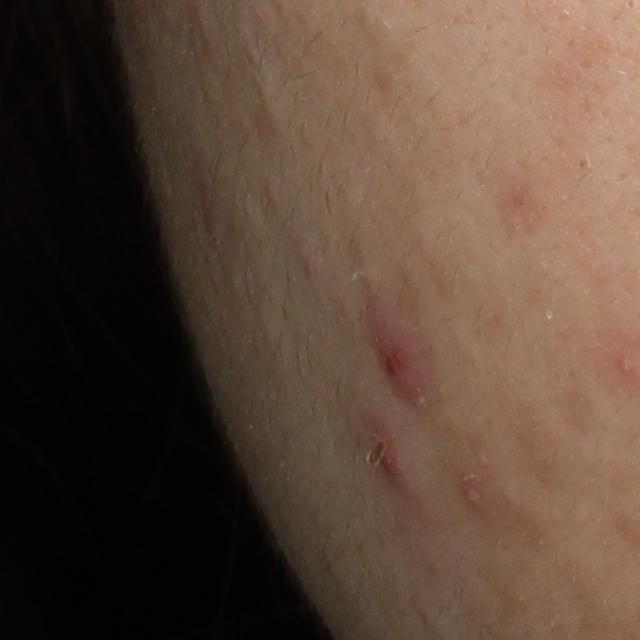papule: (370, 307, 419, 393), (355, 414, 408, 483)
